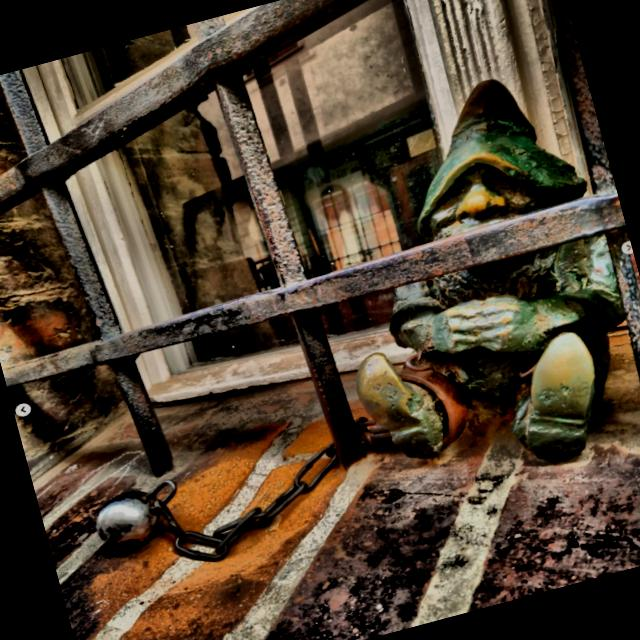Wiezien: (94, 80, 625, 563)
